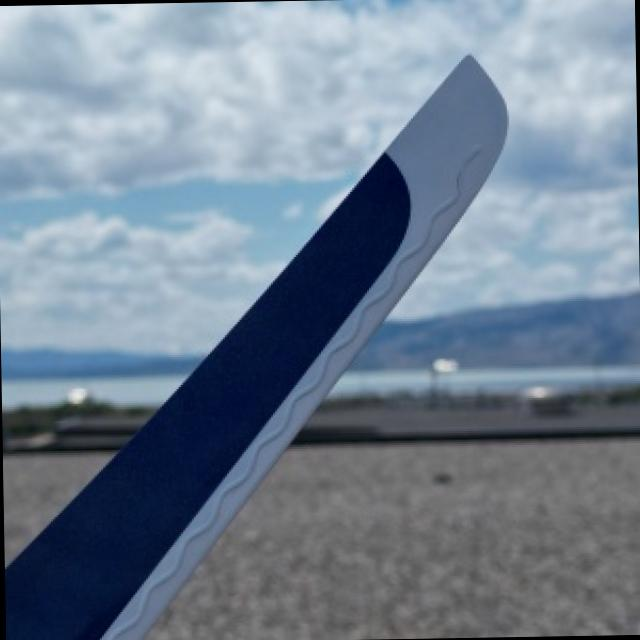healthy: (4, 55, 502, 640)
